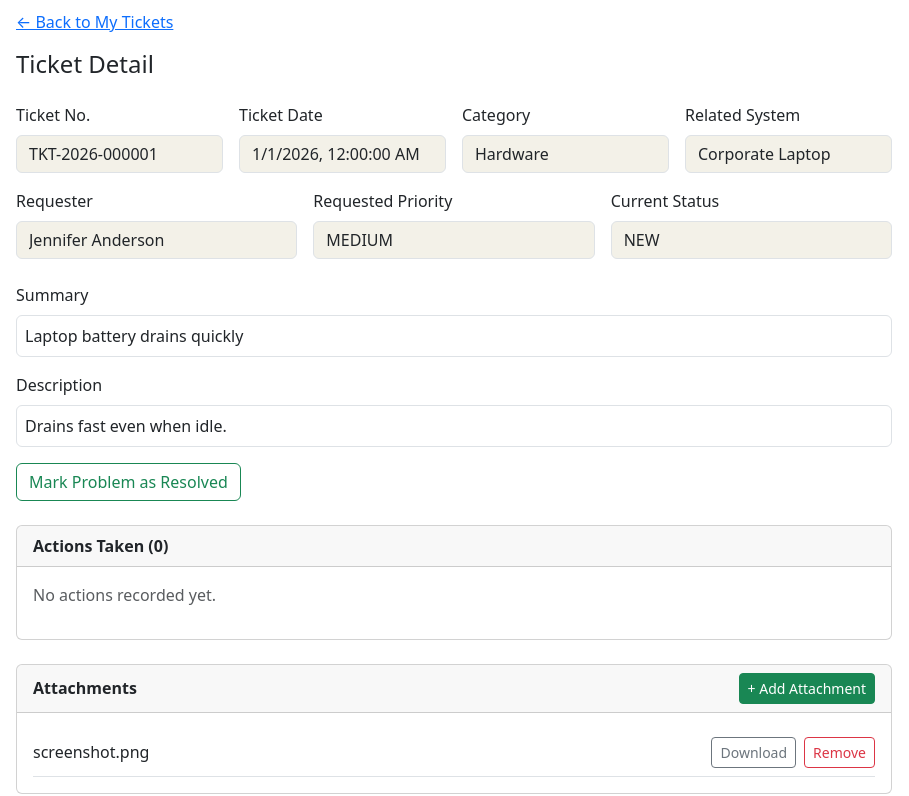
Test case: TicketDetail › removes an attachment after confirmation and hides its download/remove buttons
The image size is (909, 796).
Click the button "Remove" at [840, 752], box [804,737,875,768]
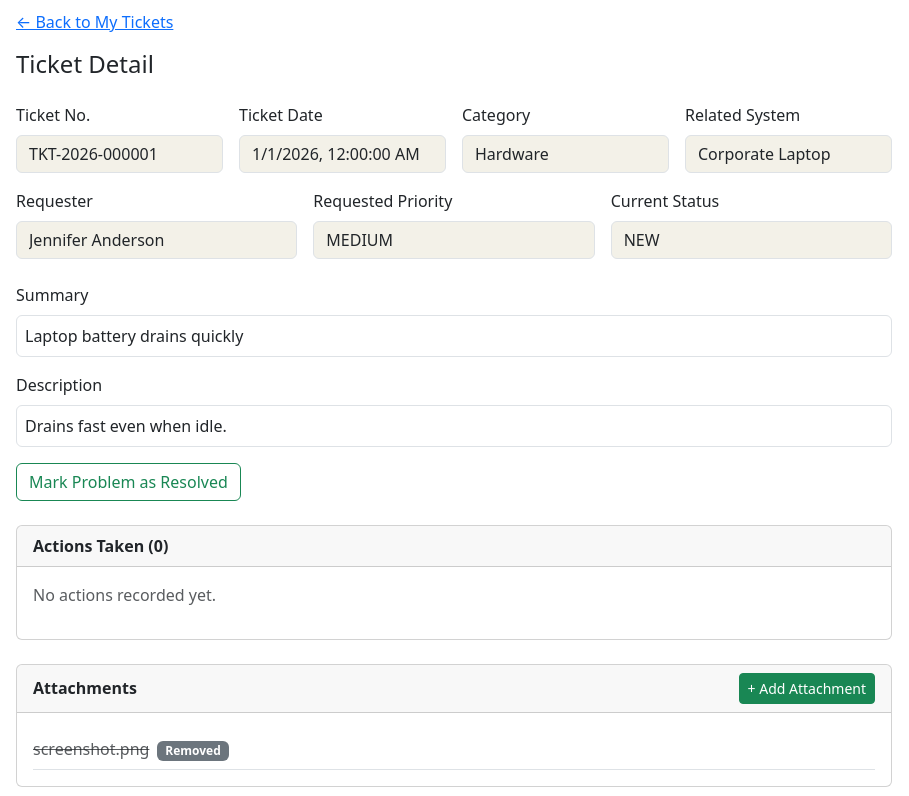
Result: the text "Removed" is shown at [157,741,228,761]
Result: the button "Download" is gone
